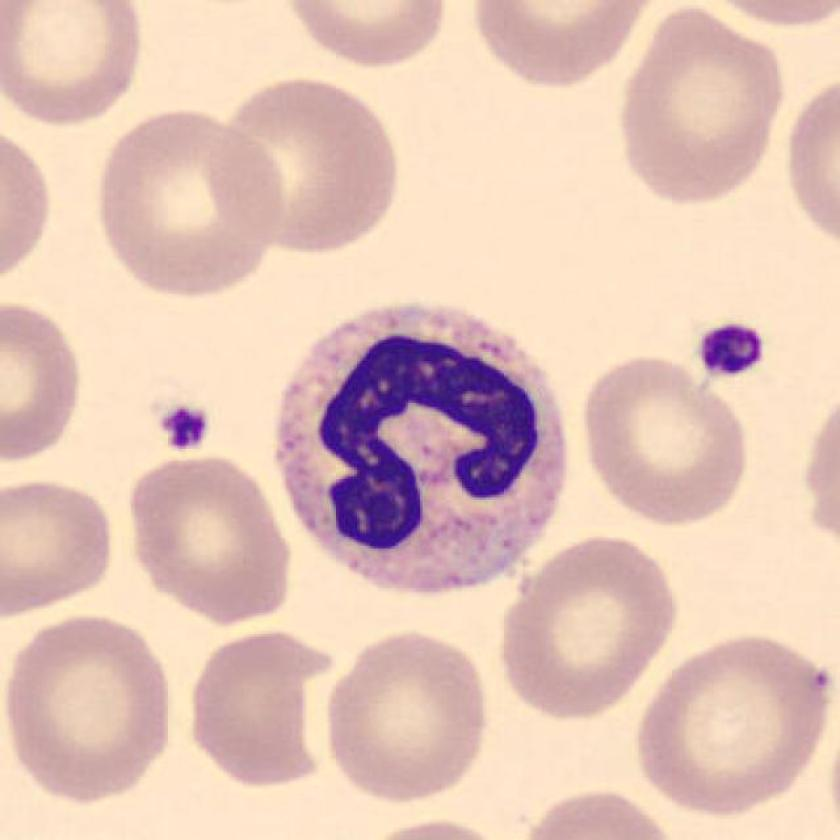neutrophil: (274, 302, 567, 589)
